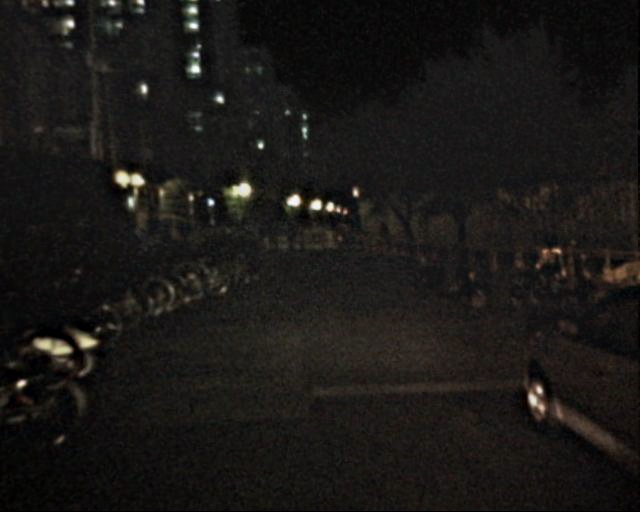person: (231, 222, 265, 247), (157, 220, 175, 264), (264, 219, 282, 262), (131, 224, 148, 266), (174, 227, 190, 265), (282, 217, 298, 255), (378, 222, 393, 259)
